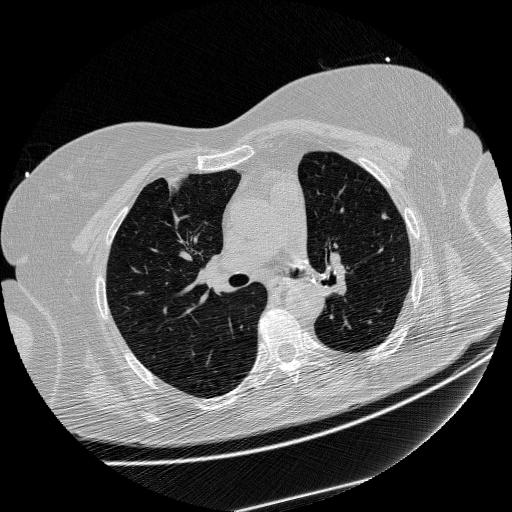nodule: (378, 210, 391, 223)
